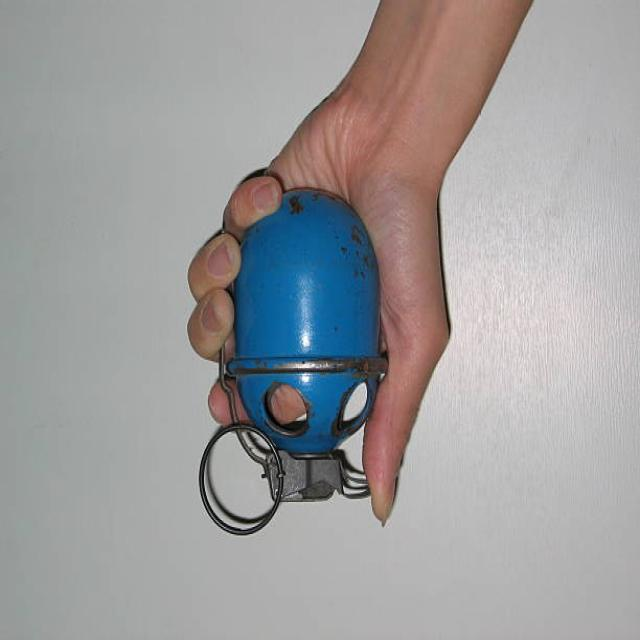grenade: (194, 184, 396, 549)
